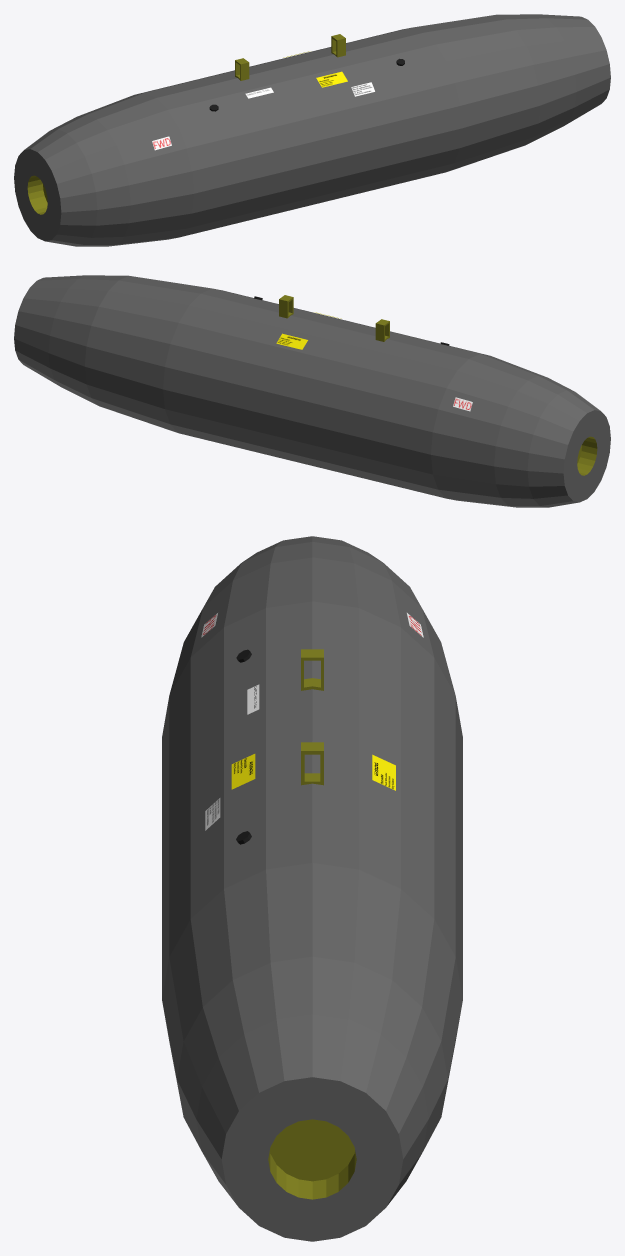
3 views of the same model, one above another, from view 1: azimuth 30°, elevation 25°; view 2: azimuth 150°, elevation 25°; view 3: azimuth 270°, elevation 25° (orthographic). The views are drawn at different scales.
Visible parts, largest first — view 1: Mark-77 Body; view 2: Mark-77 Body; view 3: Mark-77 Body.
Part boxes in pixels (box(x1,y1,x2,y2)): Mark-77 Body: box(14, 14, 610, 246); Mark-77 Body: box(14, 275, 610, 507); Mark-77 Body: box(162, 536, 462, 1241).
Bounding box in the file's own units: 50 × 211 × 55.99.
Materials: 5 (5 with a texture image).
